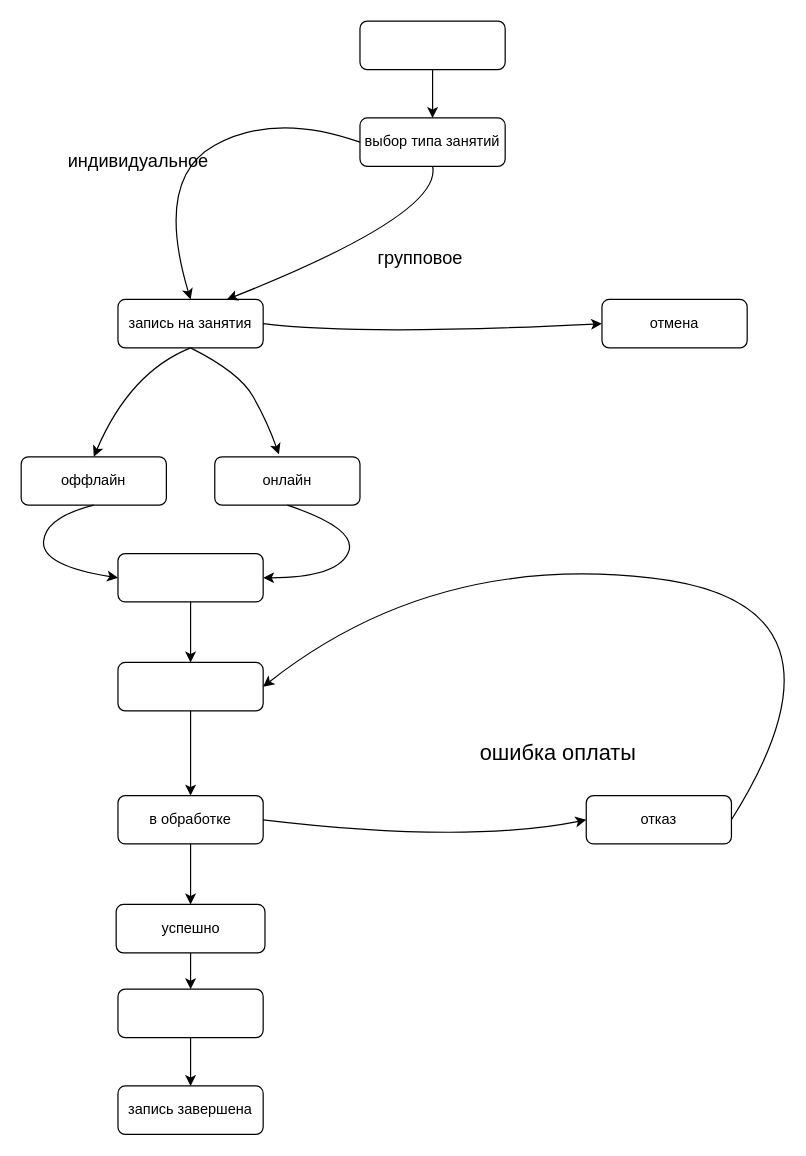
This 806x1156 diagram has some shape labels left out. The box of each missing label's shape, as (x1, y1, x2, y2) in pixels:
выбор времени: (117, 552, 263, 602)
начало: (359, 20, 505, 70)
оплата: (117, 661, 263, 711)
подтверждение записи: (117, 988, 263, 1038)
